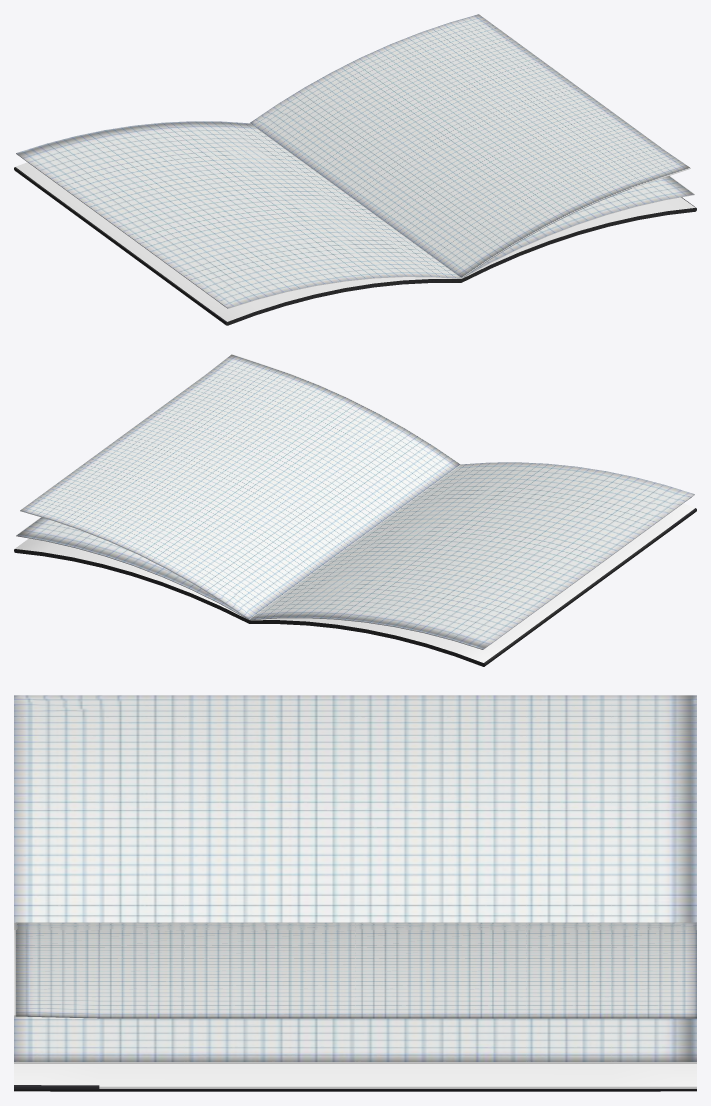
Rendered from Open notebook.fbx.
3 renders of one model, top to bottom at view 1: azimuth 30°, elevation 25°; view 2: azimuth 150°, elevation 25°; view 3: azimuth 270°, elevation 25°, orthographic. The views are drawn at different scales.
Parts seen in each view (by area): view 1: Open notebook; view 2: Open notebook; view 3: Open notebook.
Part boxes in pixels (x1,y1,x2,y2): Open notebook: (14,14,696,325); Open notebook: (14,354,696,666); Open notebook: (14,695,696,1091).
Size of the model in its own units: 30.11 by 3.59 by 23.48.
1 material, 1 textured.
